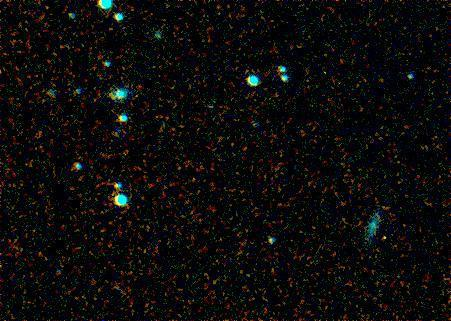star: (369, 222, 399, 252)
